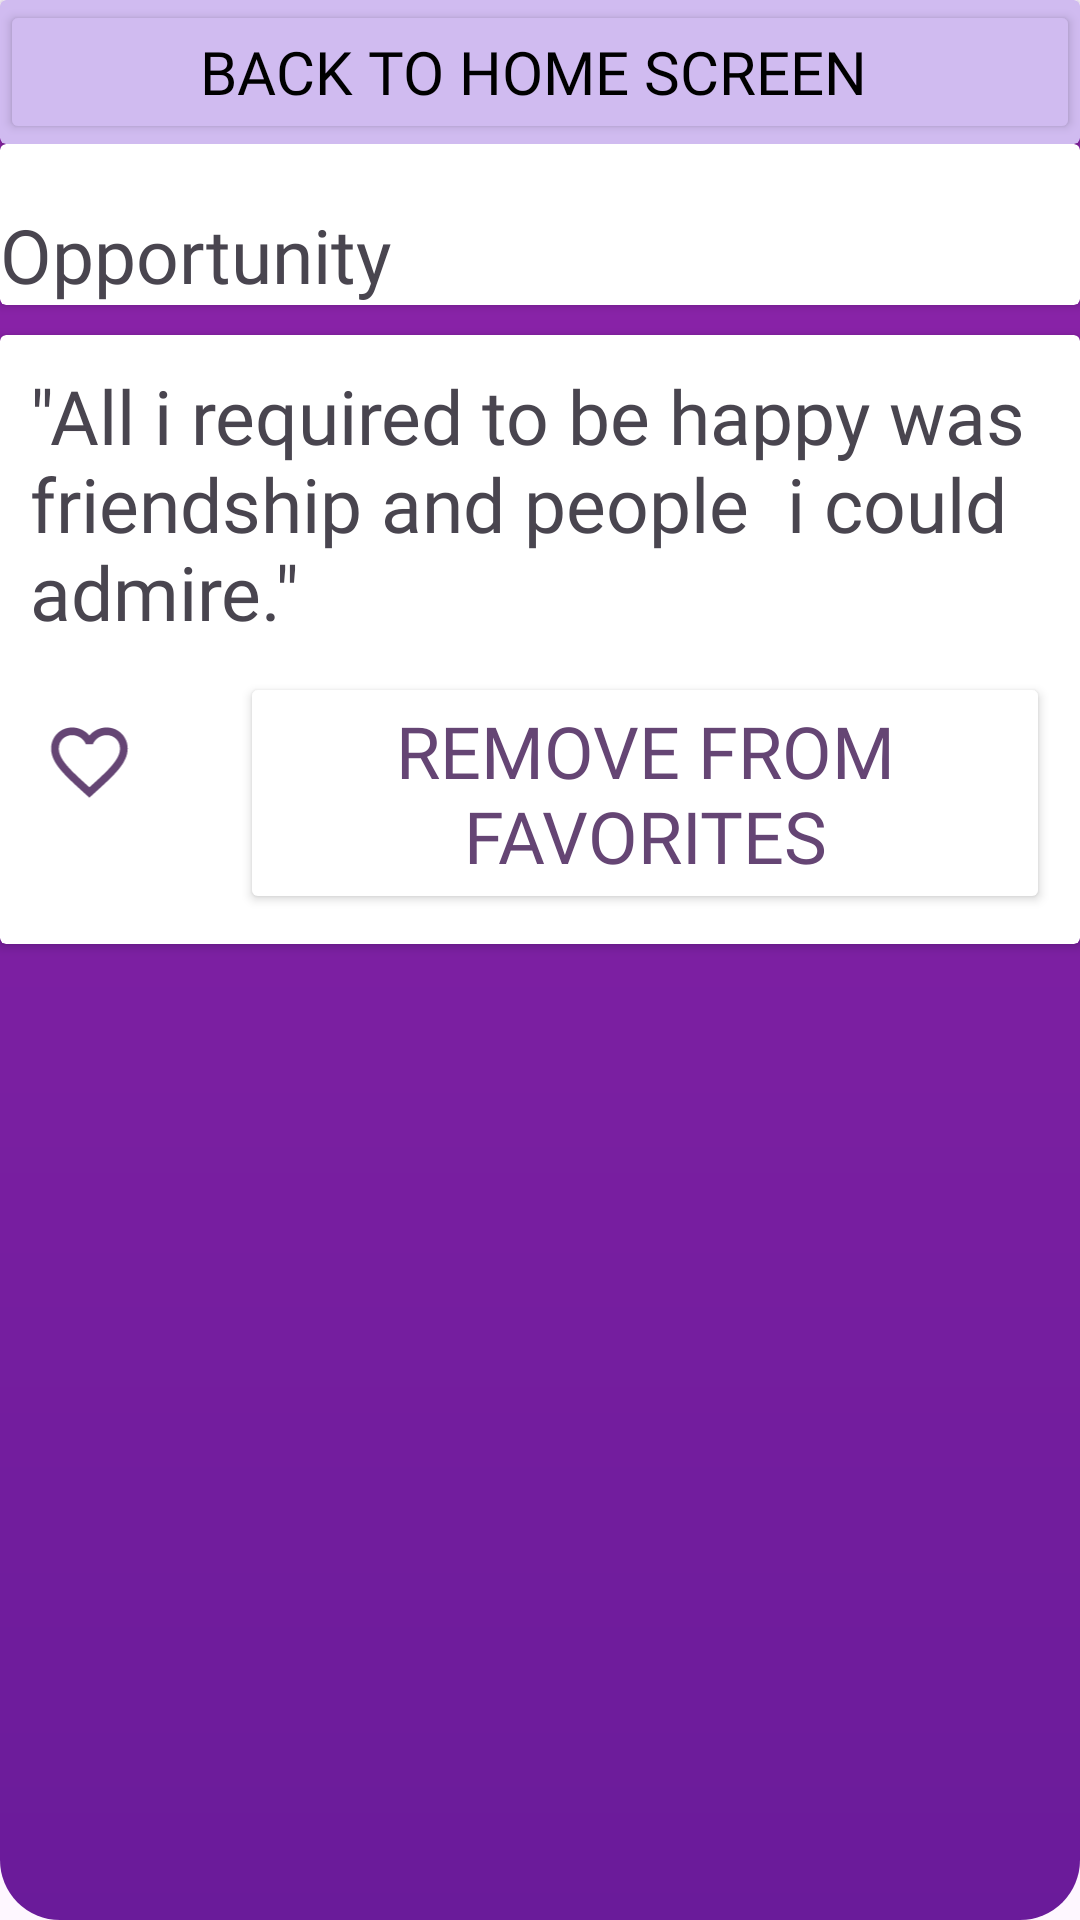

Icon bounding boxes for this 1080x1920 phone screenshot, format (x1, y1, x2, y2):
favorite border: (51, 727, 128, 798)
